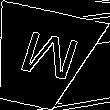M_S: (6, 28, 76, 88)
